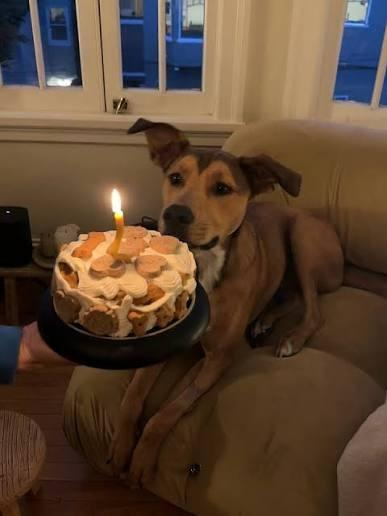adult_dog: (105, 112, 351, 492)
